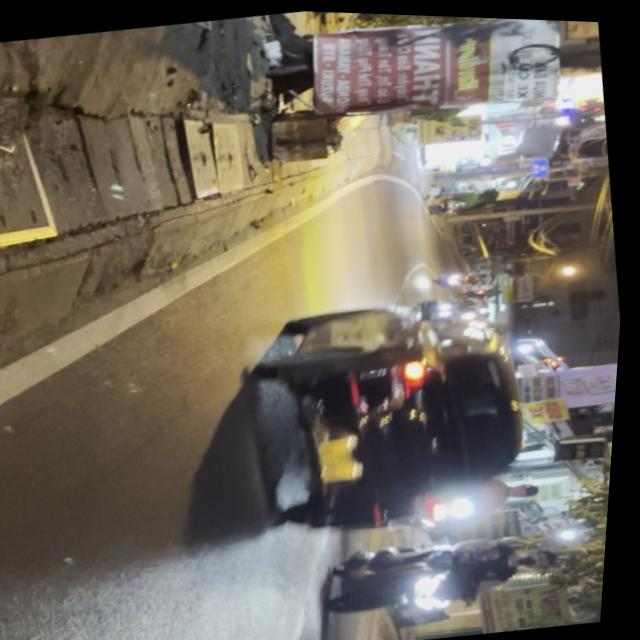licenseplate: (319, 504, 585, 633)
motorcyclist: (520, 539, 571, 571)
